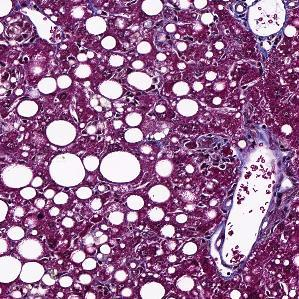fibrosis: (212, 129, 276, 162)
